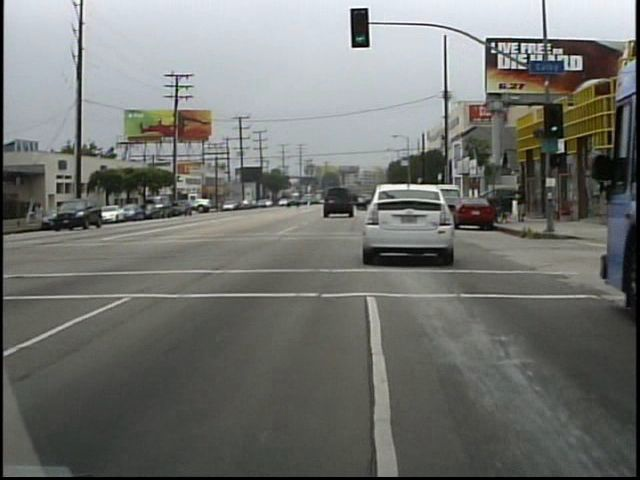person: (512, 180, 533, 230), (43, 200, 44, 229)
